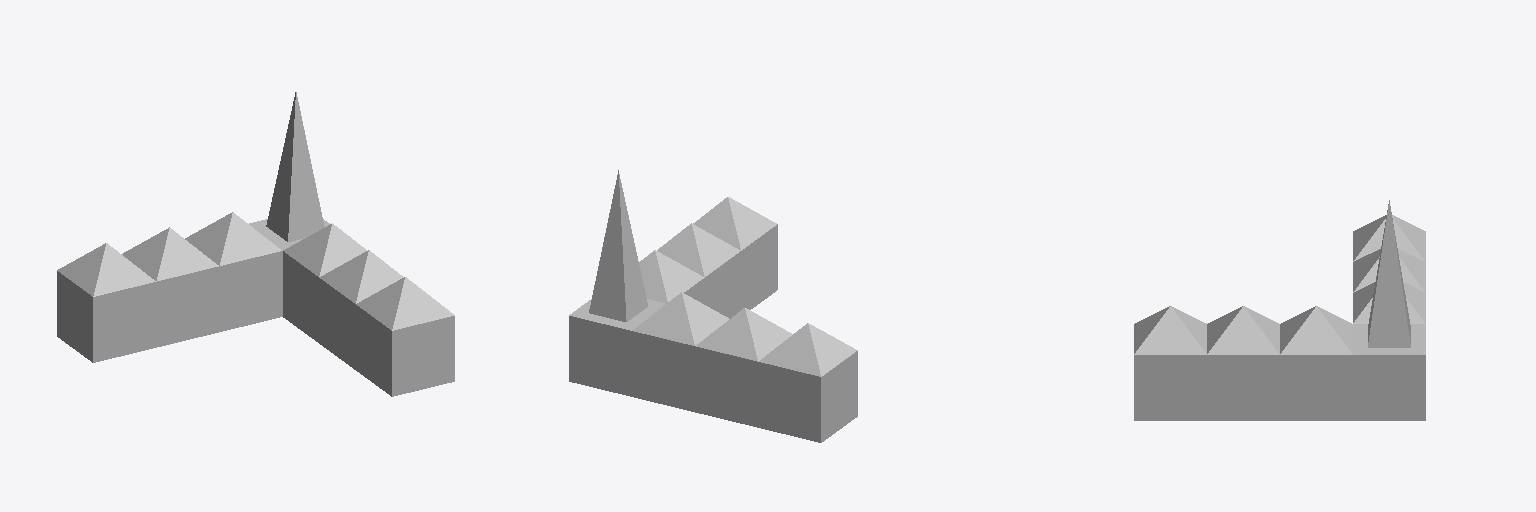
Rendered from Factory.obj.
The picture shows the model from 3 angles: view 1: azimuth 30°, elevation 25°; view 2: azimuth 150°, elevation 25°; view 3: azimuth 270°, elevation 25°; orthographic projection.
Parts seen in each view (by area): view 1: pCube1; view 2: pCube1; view 3: pCube1.
Boxes of the visible parts, <box> form: pCube1: <box>57,92,454,396</box>; pCube1: <box>569,170,857,442</box>; pCube1: <box>1134,200,1425,420</box>.
Bounding box in the file's own units: 87.72 × 68.38 × 87.72.